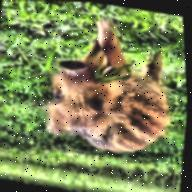boar: (16, 20, 189, 176)
